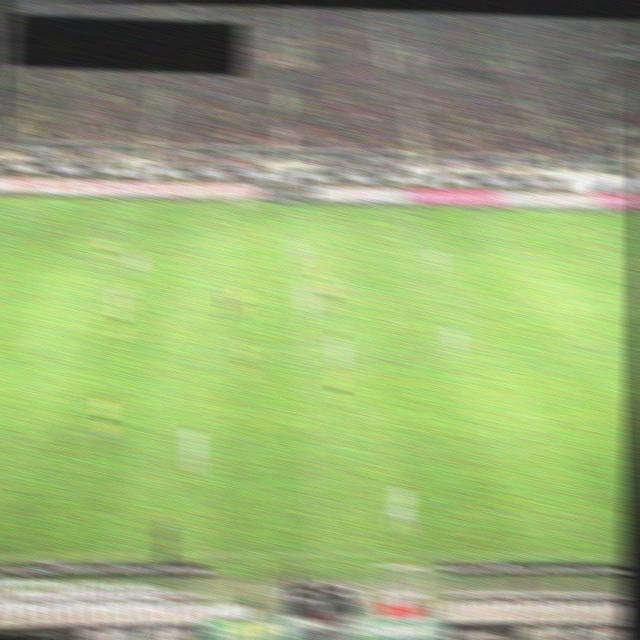bigarea_top_inner: (578, 241, 597, 254)
halfcircle_bottom: (290, 346, 309, 359)
halfcircle_top: (284, 267, 303, 280)
midline_bottom_intersection: (308, 547, 327, 560)
midline_top_intersection: (278, 200, 297, 213)
top_arc_area_intersection: (622, 281, 638, 294)
